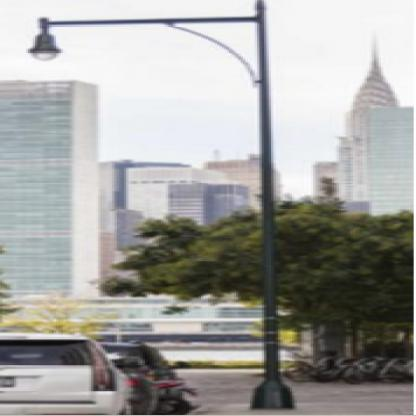Streetlights 1: (31, 1, 342, 415)
